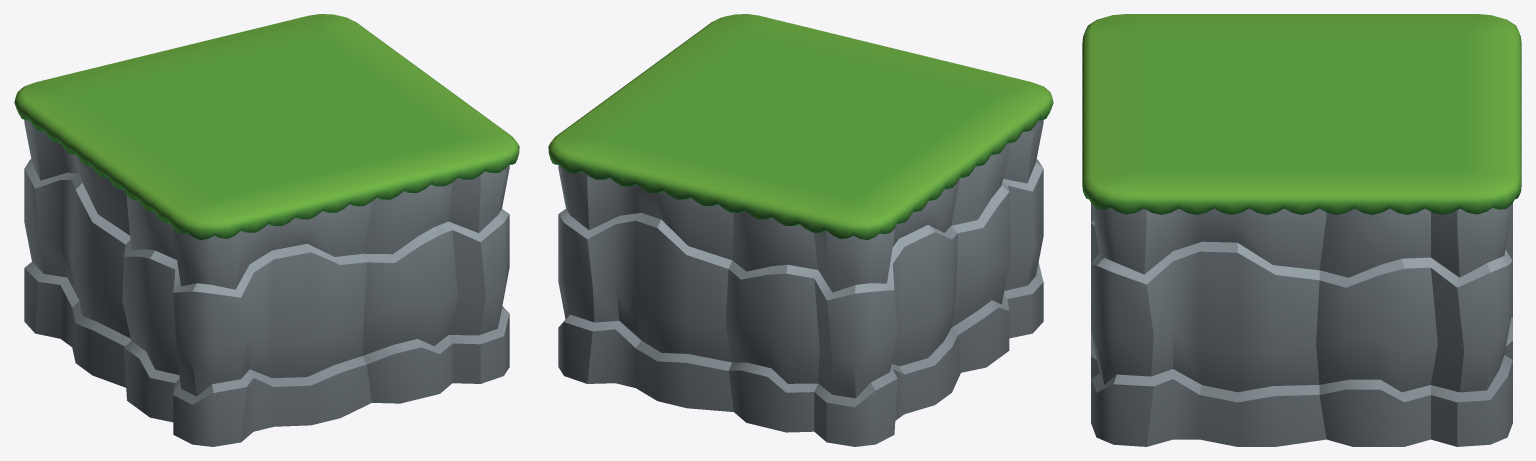
File: Hill_12x12x8_Color1.gltf
3 views of the same model, side by side, from view 1: azimuth 30°, elevation 25°; view 2: azimuth 150°, elevation 25°; view 3: azimuth 270°, elevation 25° (orthographic). The views are drawn at different scales.
Parts seen in each view (by area): view 1: Hill_12x12x8_Color1; view 2: Hill_12x12x8_Color1; view 3: Hill_12x12x8_Color1.
Part boxes in pixels (x1,y1,x2,y2): Hill_12x12x8_Color1: [14, 14, 519, 446]; Hill_12x12x8_Color1: [548, 14, 1053, 446]; Hill_12x12x8_Color1: [1082, 14, 1521, 446].
Size of the model in its own units: 12.5 by 8 by 12.5.
1 material, 1 textured.
